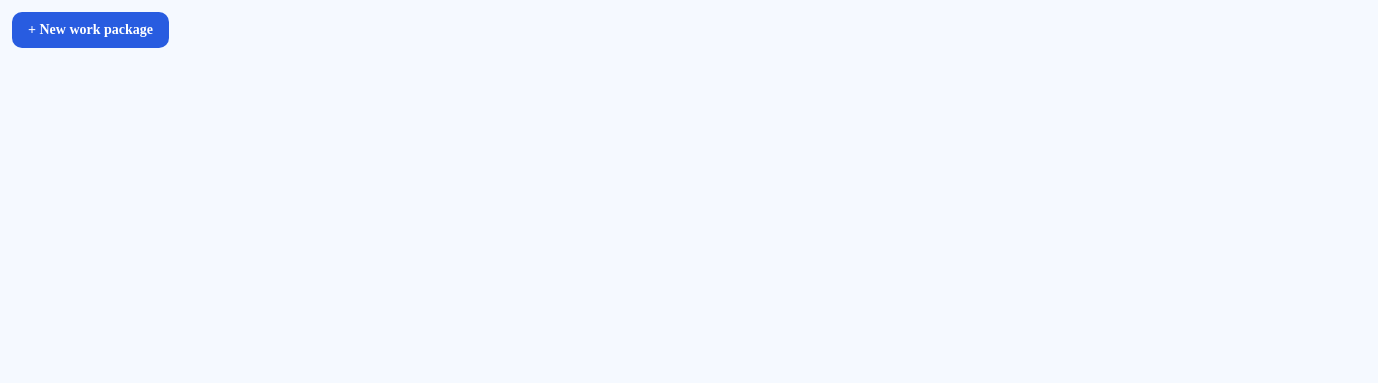
Test: New work package › closes the form on Cancel without creating anything
The image size is (1378, 383).
Later steps or results of the test are not shown.
Click the button "+ New work package" at (90, 30), box [12, 12, 169, 48]
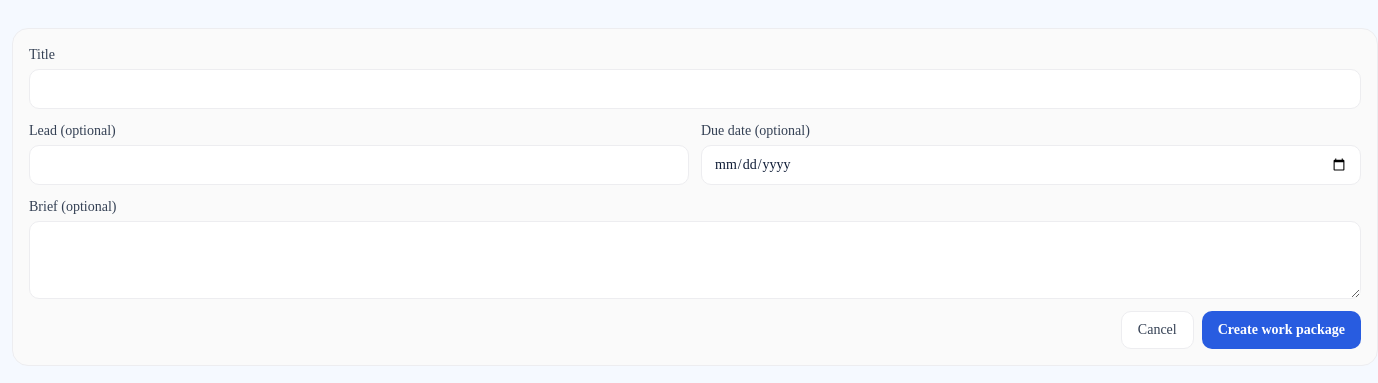
Check: the form named "New work package" is shown
